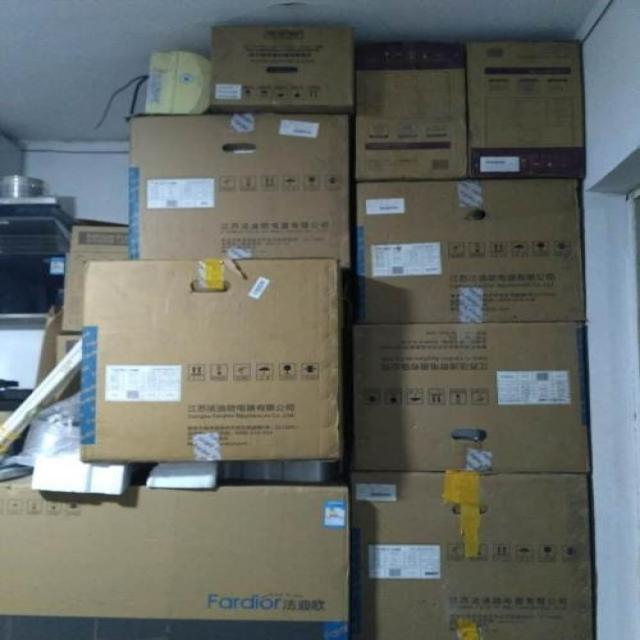box: (0, 475, 348, 640), (82, 260, 343, 459), (347, 471, 594, 640), (351, 322, 593, 473), (125, 112, 351, 266), (356, 180, 586, 325), (465, 38, 585, 179), (356, 38, 470, 181), (212, 25, 356, 114), (60, 215, 131, 330)
